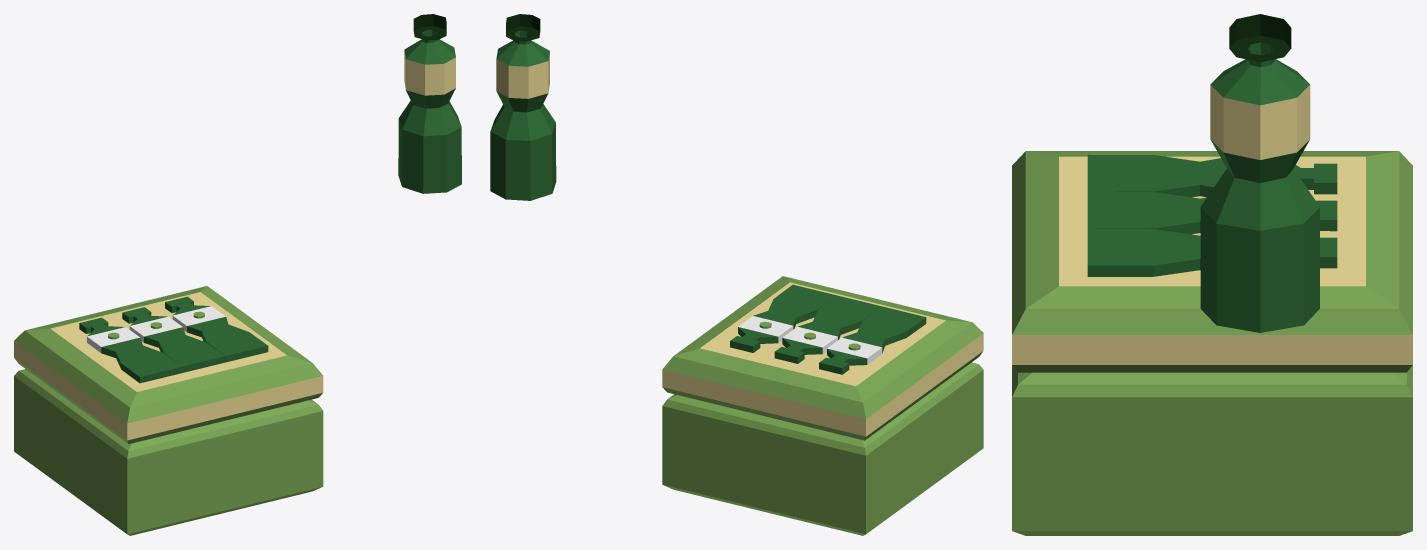
Rendered from OilBottle.fbx.
The picture shows the model from 3 angles, left to right: view 1: azimuth 30°, elevation 25°; view 2: azimuth 150°, elevation 25°; view 3: azimuth 270°, elevation 25°; orthographic projection. The views are drawn at different scales.
Visible parts, largest first — view 1: CajaAmmo, AceiteFR, CajaAmmoPaAnimacion.001; view 2: CajaAmmo, AceiteFR, CajaAmmoPaAnimacion.001; view 3: CajaAmmo, AceiteFR, CajaAmmoPaAnimacion.001.
Part boxes in pixels (<box>): CajaAmmo: <box>14,286,323,535</box>; AceiteFR: <box>398,14,461,193</box>; CajaAmmoPaAnimacion.001: <box>14,310,323,444</box>; CajaAmmo: <box>662,276,983,535</box>; AceiteFR: <box>490,14,556,200</box>; CajaAmmoPaAnimacion.001: <box>662,312,983,440</box>; CajaAmmo: <box>1012,151,1412,535</box>; AceiteFR: <box>1200,14,1319,332</box>; CajaAmmoPaAnimacion.001: <box>1012,182,1412,372</box>.
Size of the model in its own units: 409 by 370 by 200.
